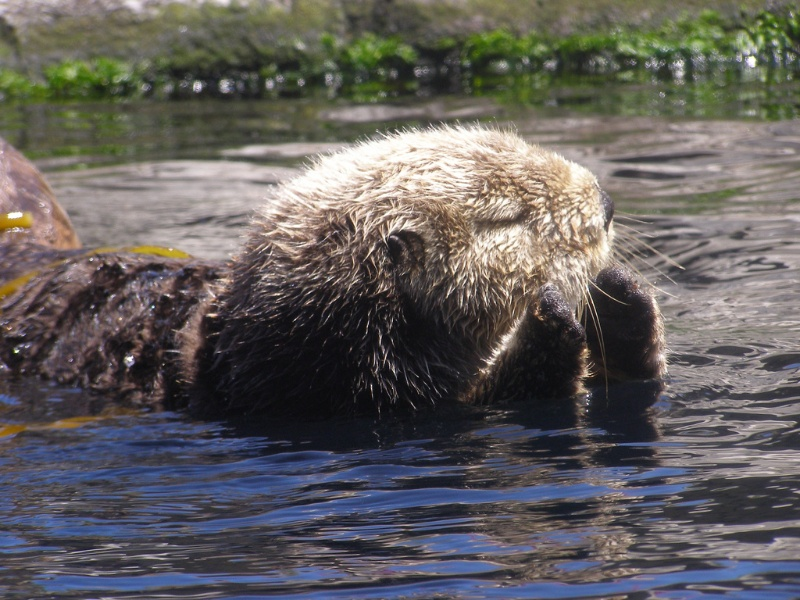minkish: (1, 109, 671, 467)
